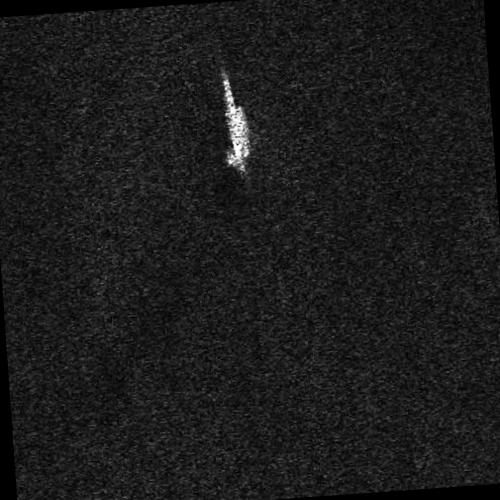ship: (221, 71, 250, 173)
